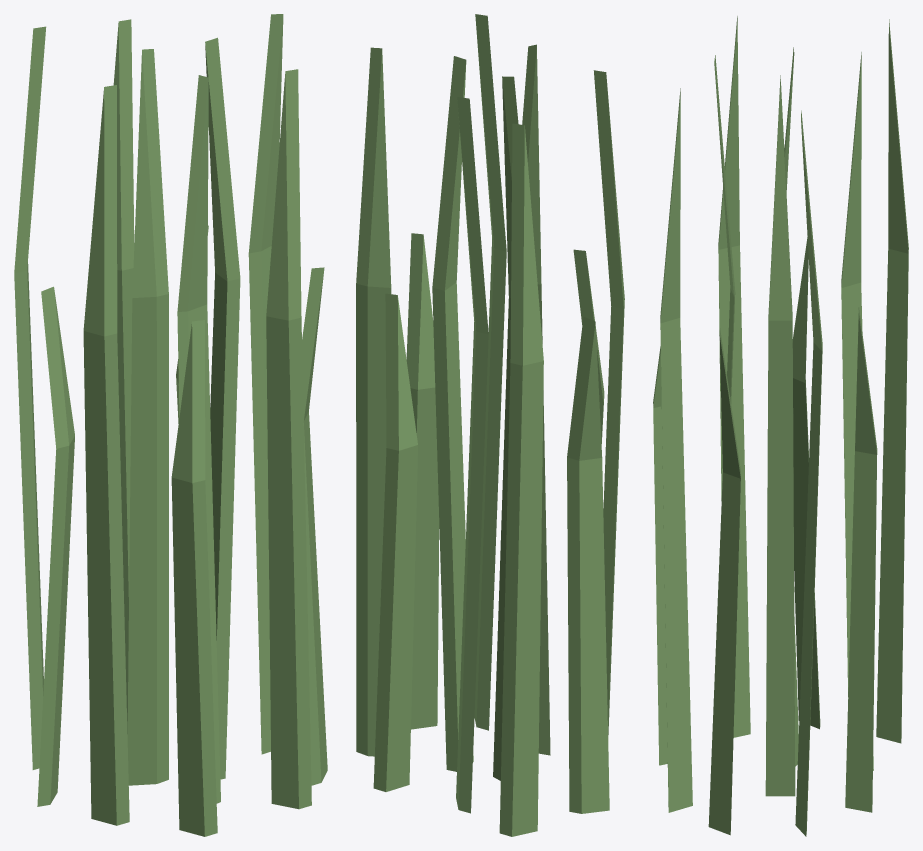
The model's file is grass_1.glb.
3 renders of one model, left to right at view 1: azimuth 30°, elevation 25°; view 2: azimuth 150°, elevation 25°; view 3: azimuth 270°, elevation 25°, orthographic. The views are drawn at different scales.
Visible parts, largest first — view 1: Grass; view 2: Grass; view 3: Grass.
Boxes of the visible parts, x1,y1,x2,y2 form: Grass: (14, 14, 327, 836); Grass: (356, 14, 624, 836); Grass: (653, 16, 908, 836).
Size of the model in its own units: 0.3738 by 1.01 by 0.3272.
